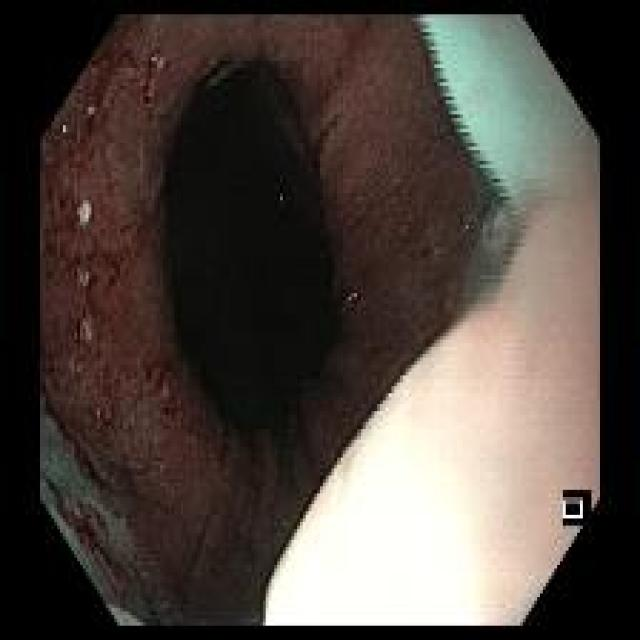color misalignment: (416, 14, 593, 208), (564, 494, 587, 526)
contrast: (156, 67, 347, 418)
saturation: (266, 387, 504, 623)
